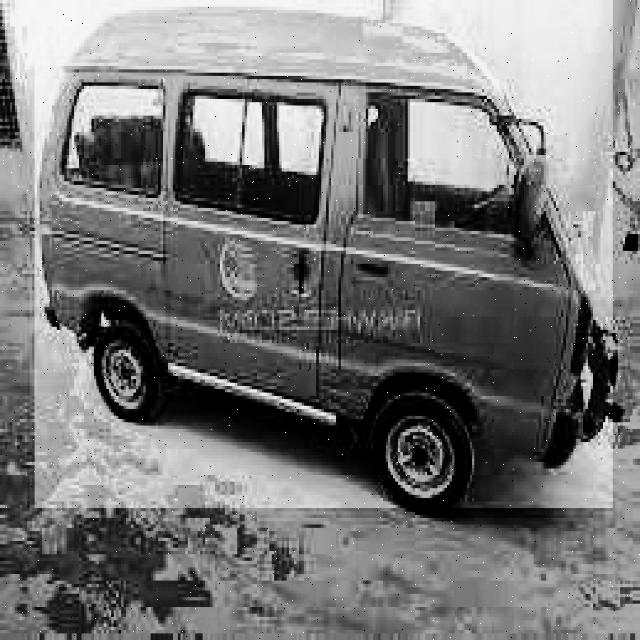LCV: (32, 0, 612, 511)
